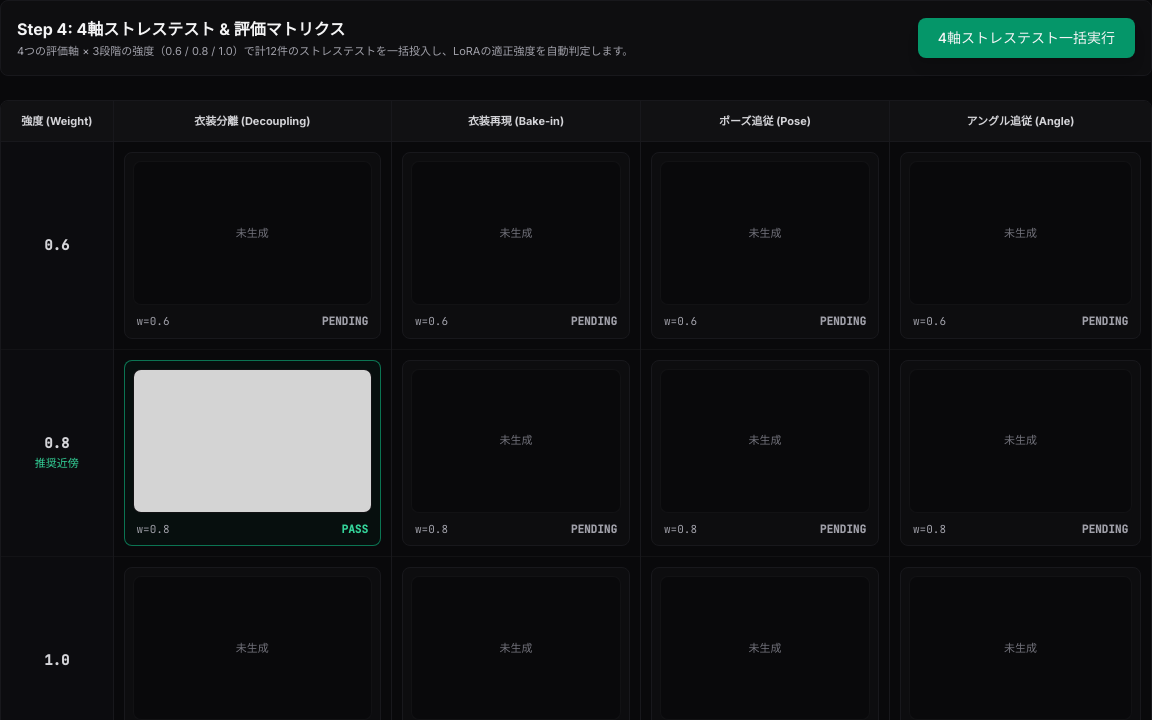
Scenario: BenchmarkGrid › opens modal when a cell is clicked
The image size is (1152, 720).
What coordinates should you click on to do the following:
click the button with test id "benchmark-cell-decoupling-0.8"
I would click on:
 (252, 453)
Its box is [124,360,381,546].
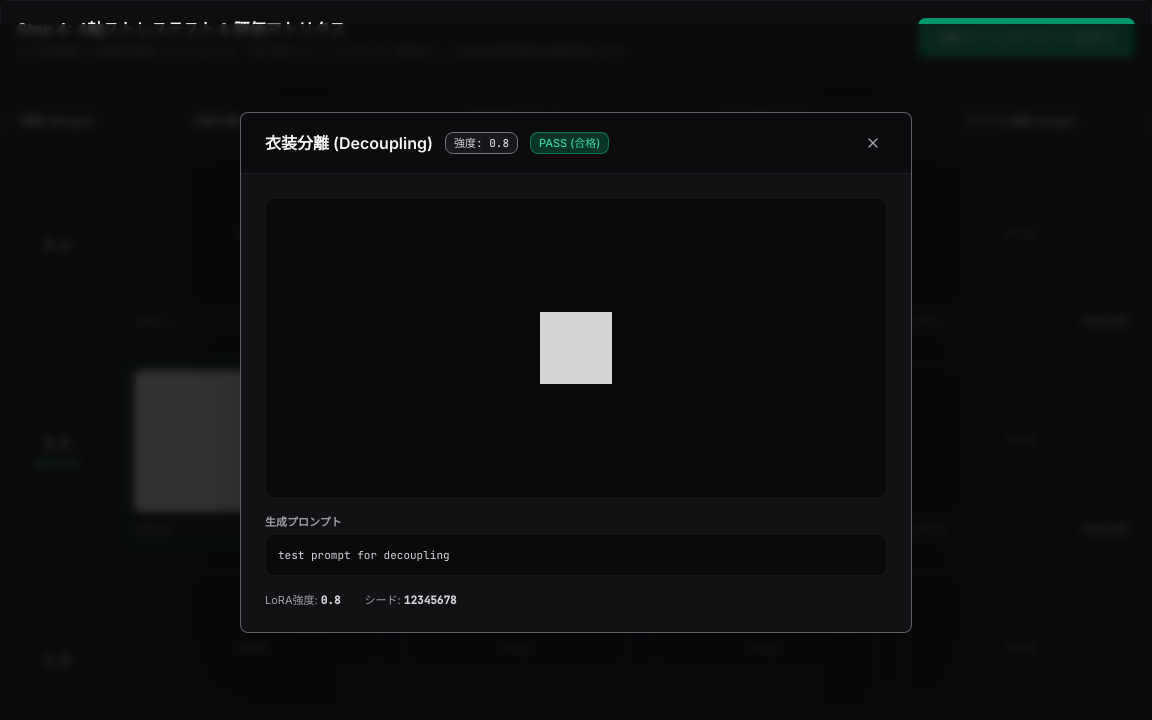
Check: the dialog with test id "benchmark-cell-modal" is shown
Check: the text with test id "modal-prompt-text" reads "test prompt for decoupling", box [278,548,450,562]
